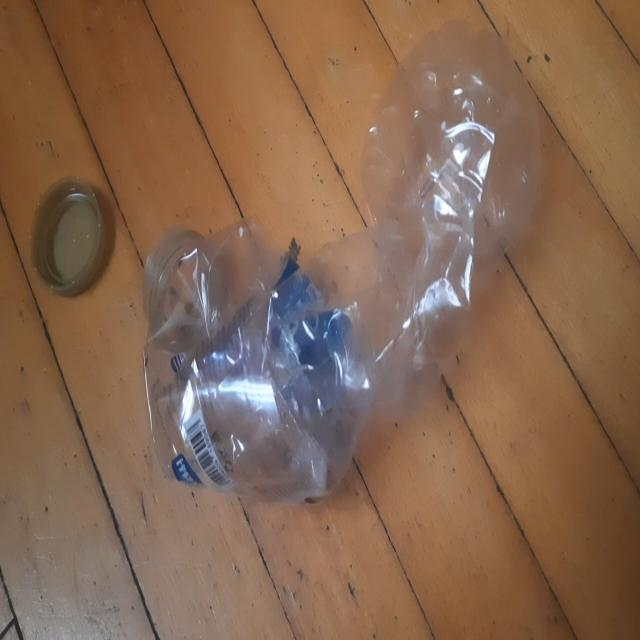Plastic: (142, 18, 540, 503)
